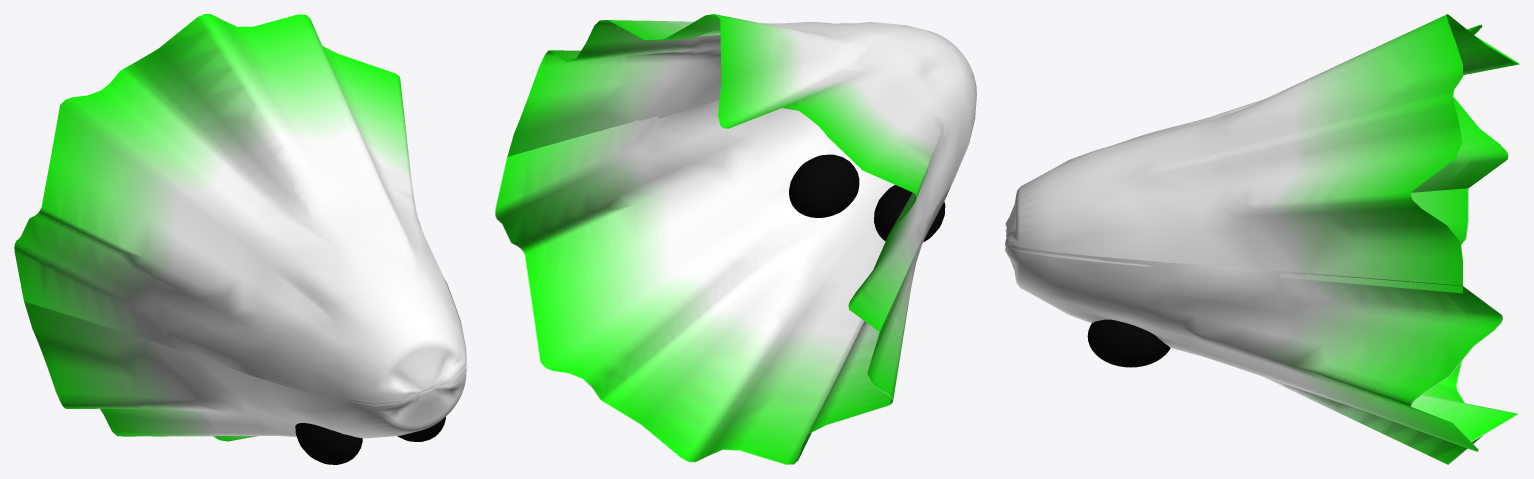
Rendered from ghost2.dae.
3 renders of one model, left to right at view 1: azimuth 30°, elevation 25°; view 2: azimuth 150°, elevation 25°; view 3: azimuth 270°, elevation 25°, orthographic. The views are drawn at different scales.
Visible parts, largest first — view 1: nurbsToPoly3, nurbsToPoly2, pSphere2, pSphere3; view 2: nurbsToPoly2, nurbsToPoly3, pSphere3, pSphere2; view 3: nurbsToPoly3, nurbsToPoly2, pSphere3.
Boxes of the visible parts, left/top/right/bottom form: nurbsToPoly3: left=14, top=14, right=466, bottom=406; nurbsToPoly2: left=24, top=276, right=466, bottom=441; pSphere2: left=295, top=423, right=362, bottom=464; pSphere3: left=397, top=417, right=445, bottom=441; nurbsToPoly2: left=495, top=100, right=976, bottom=464; nurbsToPoly3: left=507, top=14, right=976, bottom=331; pSphere3: left=789, top=154, right=859, bottom=217; pSphere2: left=874, top=185, right=945, bottom=241; nurbsToPoly3: left=1005, top=14, right=1519, bottom=293; nurbsToPoly2: left=1005, top=188, right=1518, bottom=464; pSphere3: left=1087, top=319, right=1170, bottom=367.
Size of the model in its own units: 0.9218 by 1.01 by 1.08.
2 materials, 2 textured.
